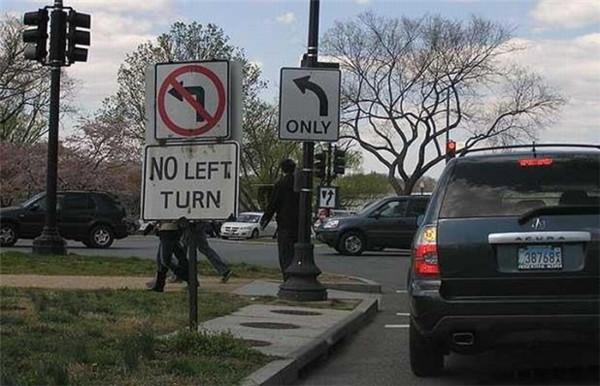no_left_turn: (157, 64, 225, 135)
